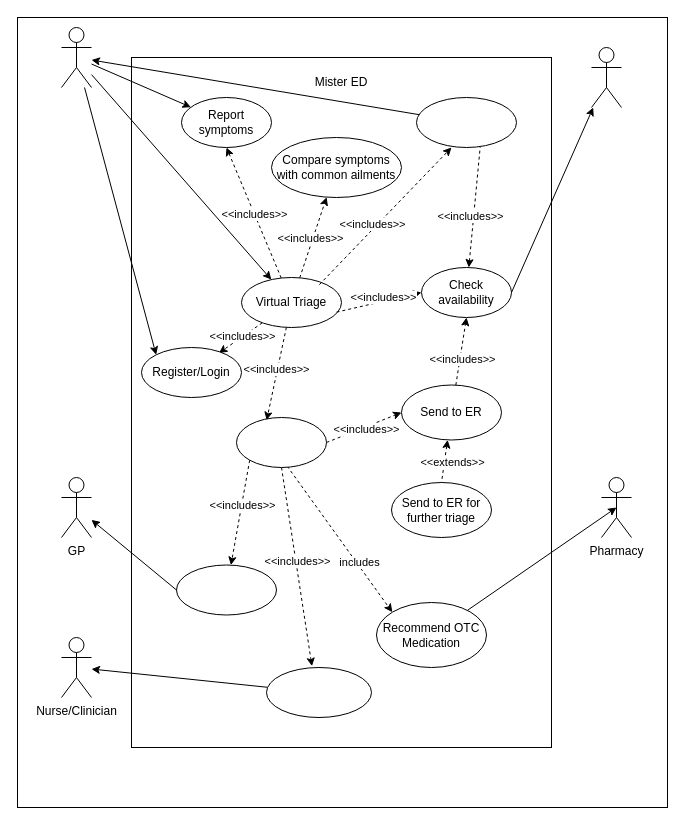
The diagram is 685 pixels wide and 825 high, and some of its shapes have lost their labels. The centre of each missing label's shape, as x and y in pixels:
ED: the point at 606,77
Patient: the point at 76,57
Recommend further action: the point at 281,442
Send Notification: the point at 466,122
Send to GP: the point at 226,589
Send to Hotline: the point at 319,692
